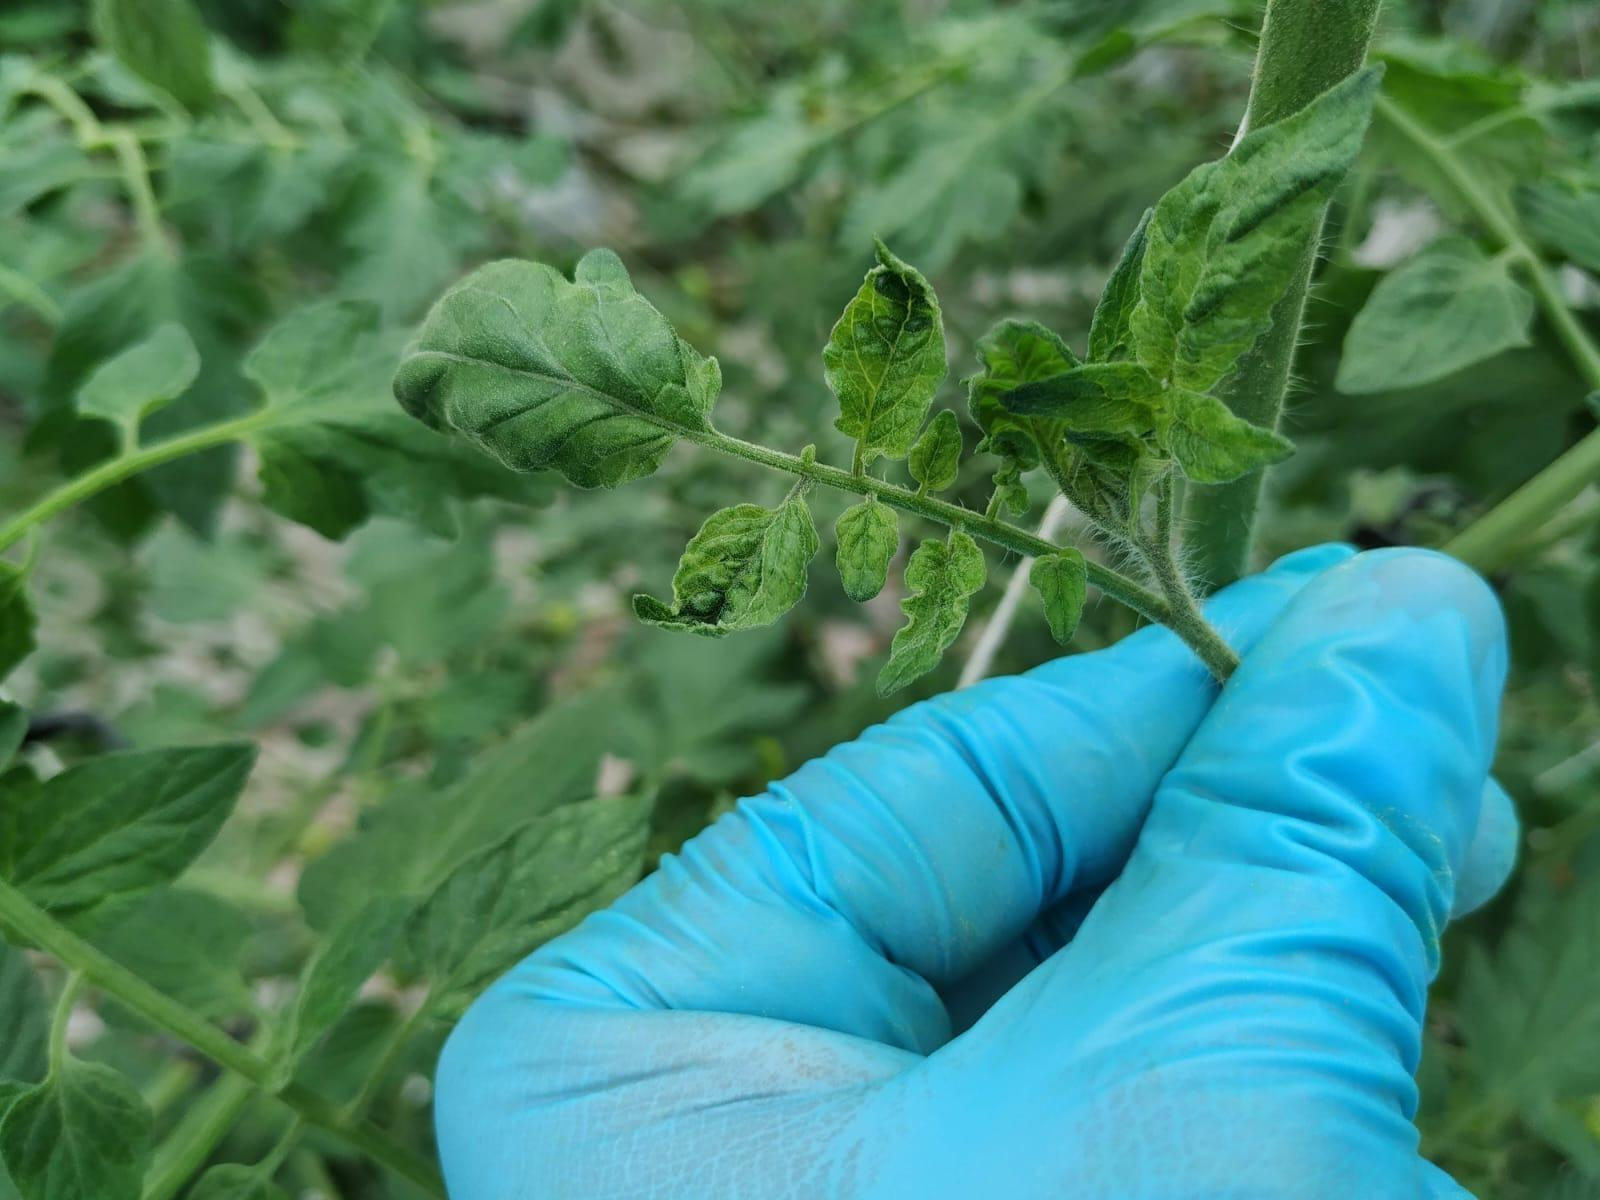Rugose leaf: (1128, 72, 1378, 394), (822, 241, 947, 475), (634, 484, 819, 634), (878, 531, 984, 694), (1166, 391, 1294, 484), (1000, 362, 1159, 434), (838, 494, 900, 603), (1031, 547, 1088, 644), (909, 409, 962, 494)
Rugose stem: (695, 431, 1044, 553)
